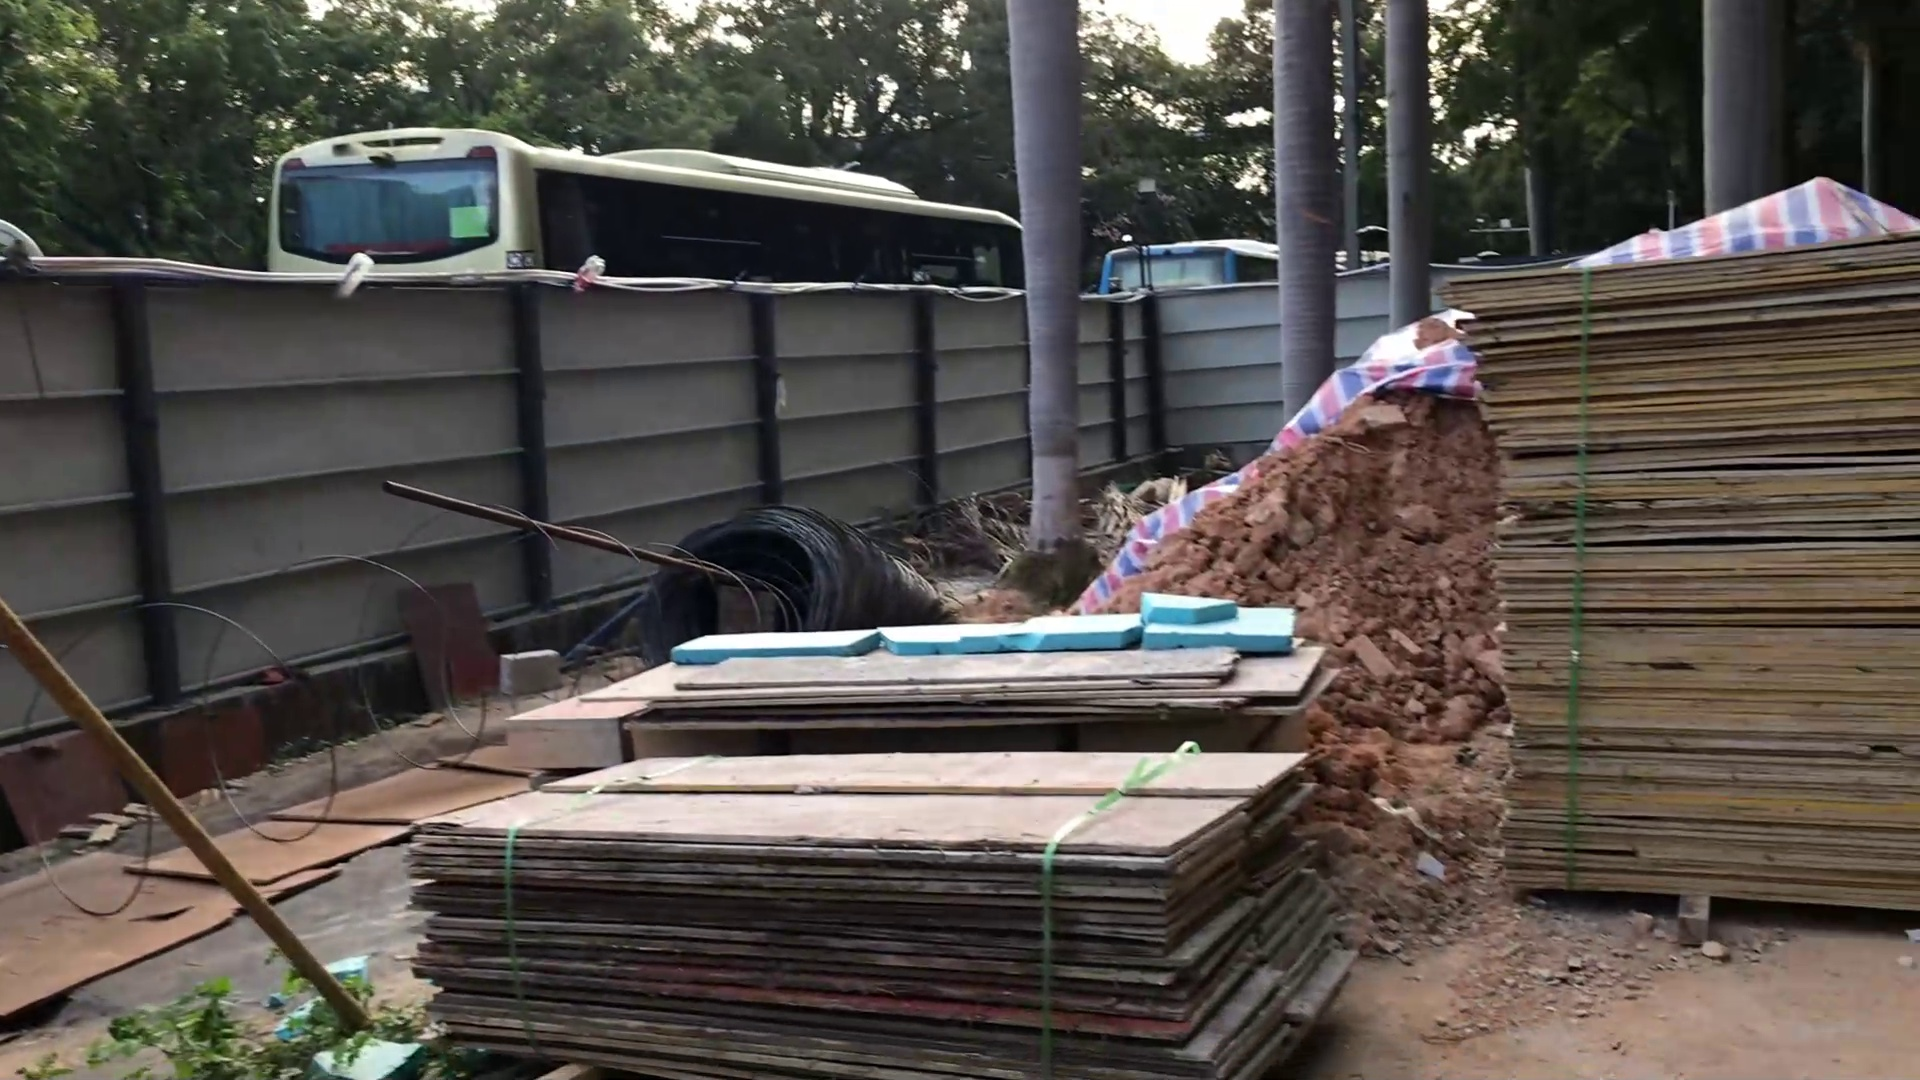board: (1437, 224, 1920, 952), (404, 760, 1374, 1080)
